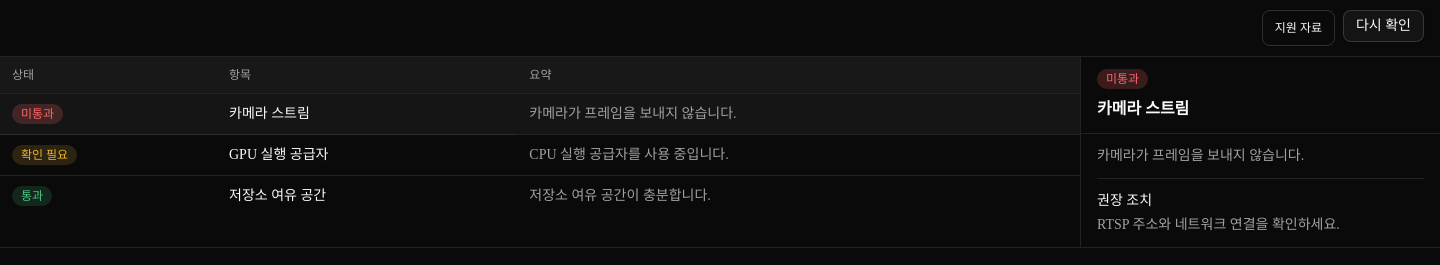
Test: DiagnosticsPanel › shows the engine error detail when refresh fails
Click the button "다시 확인": click(1384, 26) [1343,10,1424,42]
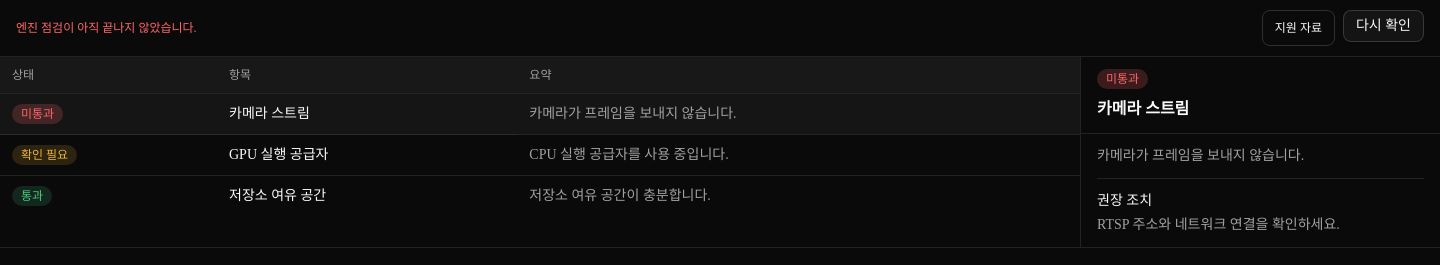
Check: the message reads "엔진 점검이 아직 끝나지 않았습니다.", box [16,21,197,35]
